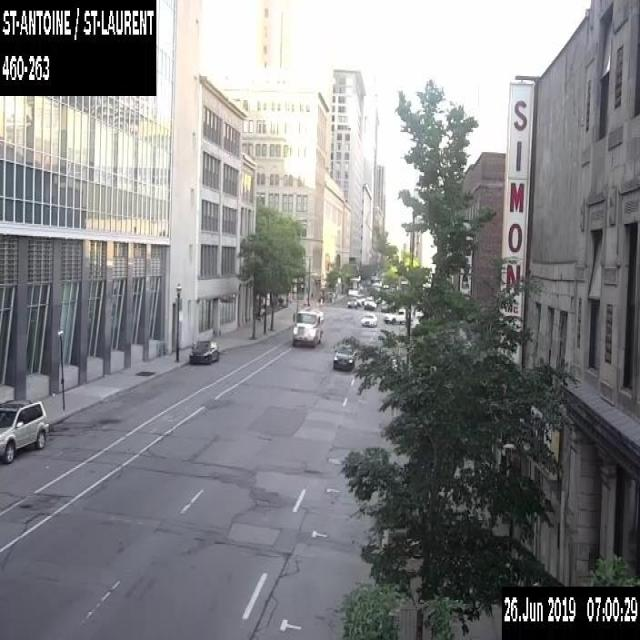vehicle: (0, 397, 49, 464), (292, 306, 323, 345), (188, 339, 218, 364), (332, 346, 354, 370), (383, 307, 412, 324), (361, 312, 377, 326), (363, 295, 374, 308), (346, 296, 356, 308)
